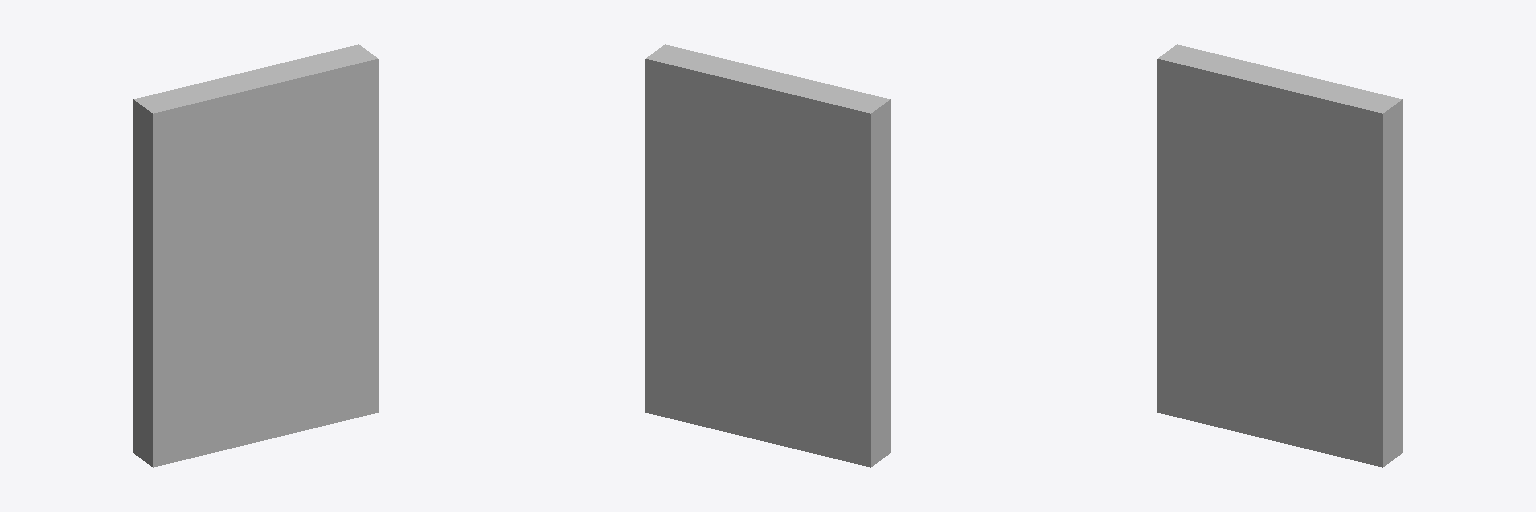
The model's file is MDLeft.obj.
3 renders of one model, left to right at view 1: azimuth 30°, elevation 25°; view 2: azimuth 150°, elevation 25°; view 3: azimuth 330°, elevation 25°, orthographic.
Visible parts, largest first — view 1: pCube1; view 2: pCube1; view 3: pCube1.
Boxes of the visible parts, box(x1,y1,x2,y2) form: pCube1: box(133, 44, 378, 467); pCube1: box(645, 44, 890, 467); pCube1: box(1157, 44, 1402, 467).
Bounding box in the file's own units: 2 × 3 × 0.3.